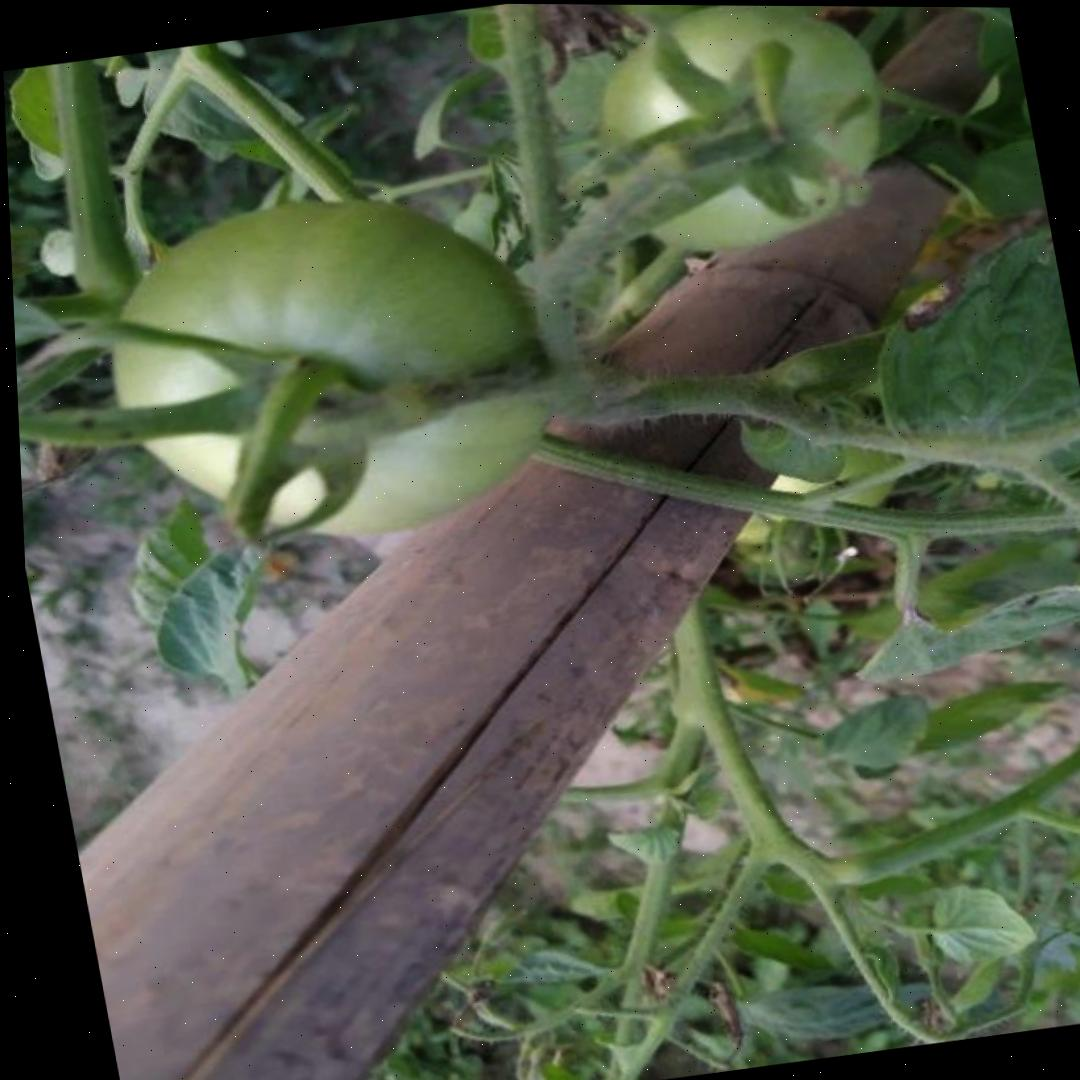mentah: (81, 172, 589, 571), (573, 4, 903, 269)
